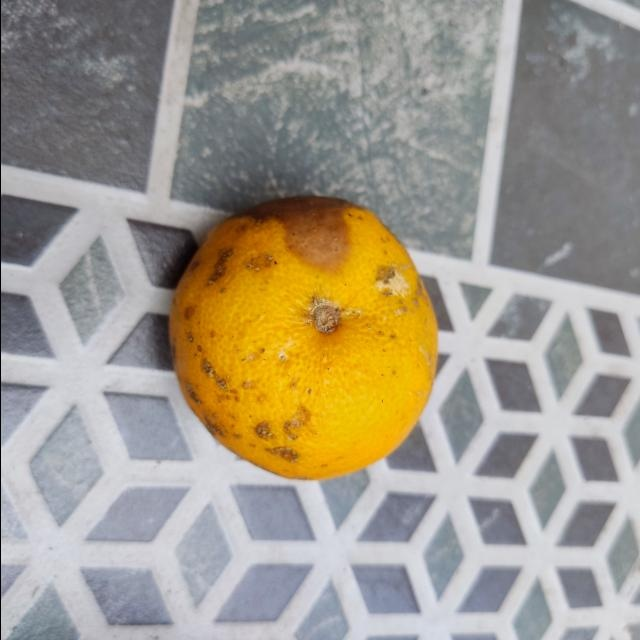agrume: (167, 192, 438, 484)
